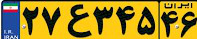character: (63, 3, 95, 39), (40, 2, 64, 38), (92, 3, 115, 39), (136, 2, 158, 39), (116, 1, 137, 39), (21, 3, 40, 39), (160, 9, 180, 38), (179, 9, 197, 39)
